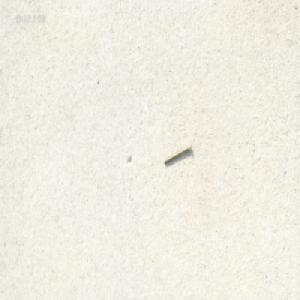Bolt: (163, 142, 191, 165)
